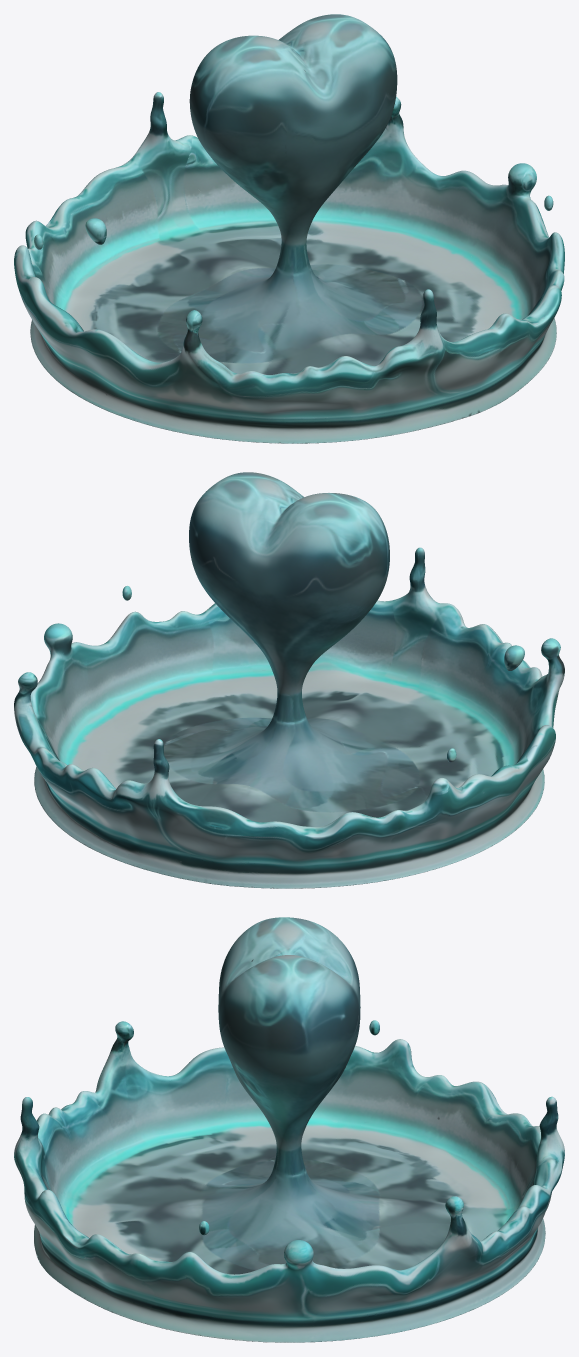
Rendered from water 3.glb.
The picture shows the model from 3 angles, top to bottom: view 1: azimuth 30°, elevation 25°; view 2: azimuth 150°, elevation 25°; view 3: azimuth 270°, elevation 25°; orthographic projection. The views are drawn at different scales.
Size of the model in its own units: 1.88 by 1.11 by 1.9.
1 material, 1 textured.
